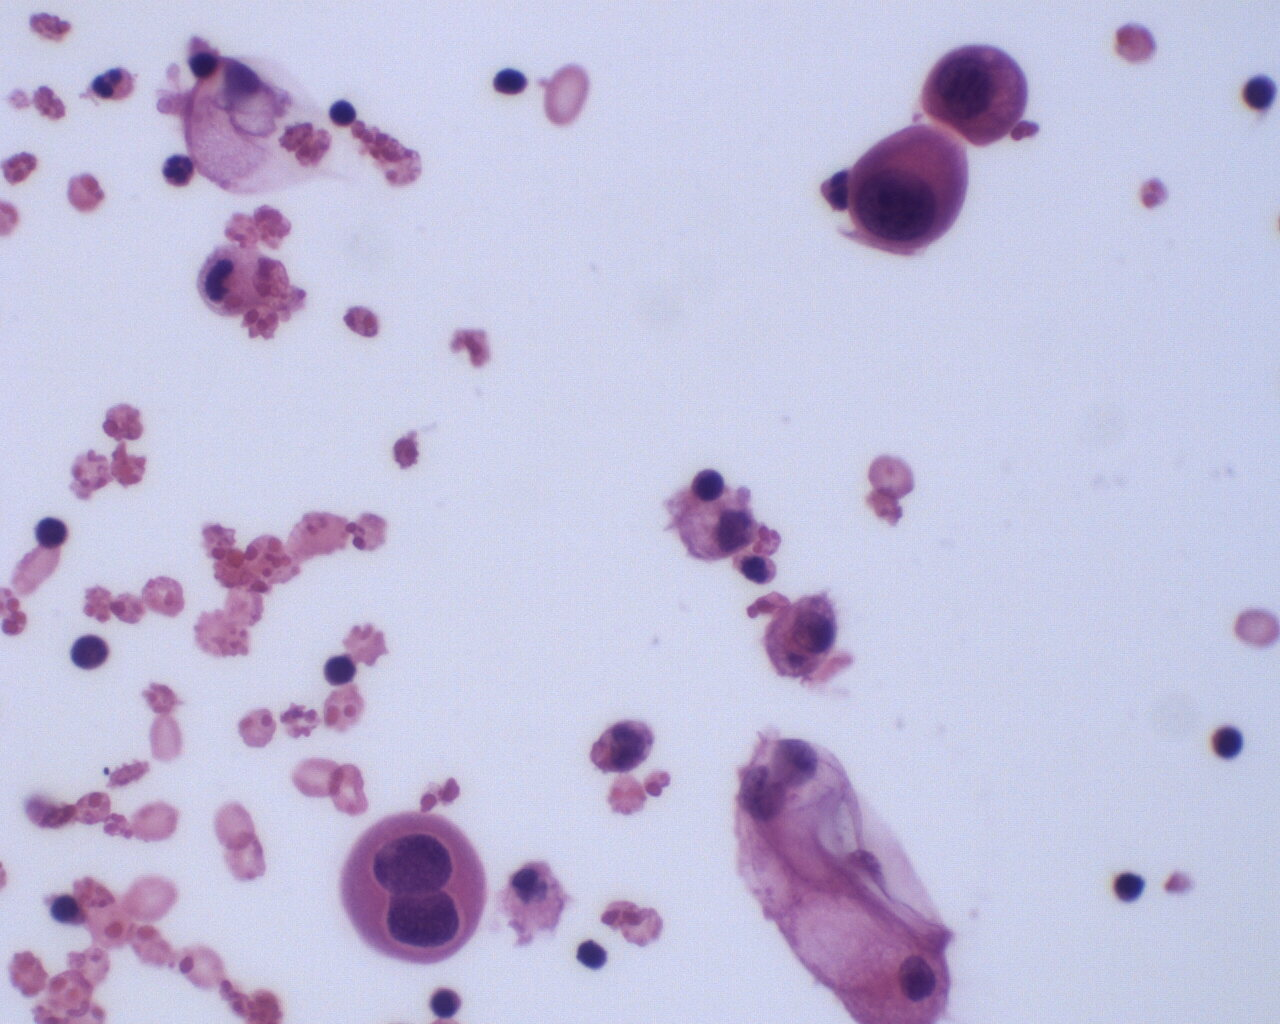ab: (830, 127, 980, 260), (921, 34, 1028, 152)
lymph: (1104, 860, 1149, 909), (1209, 716, 1249, 763), (69, 634, 113, 674), (321, 652, 360, 689), (33, 515, 70, 549), (326, 98, 359, 127)
meso: (334, 810, 493, 971)
neutro: (93, 63, 136, 103), (160, 153, 200, 191)
